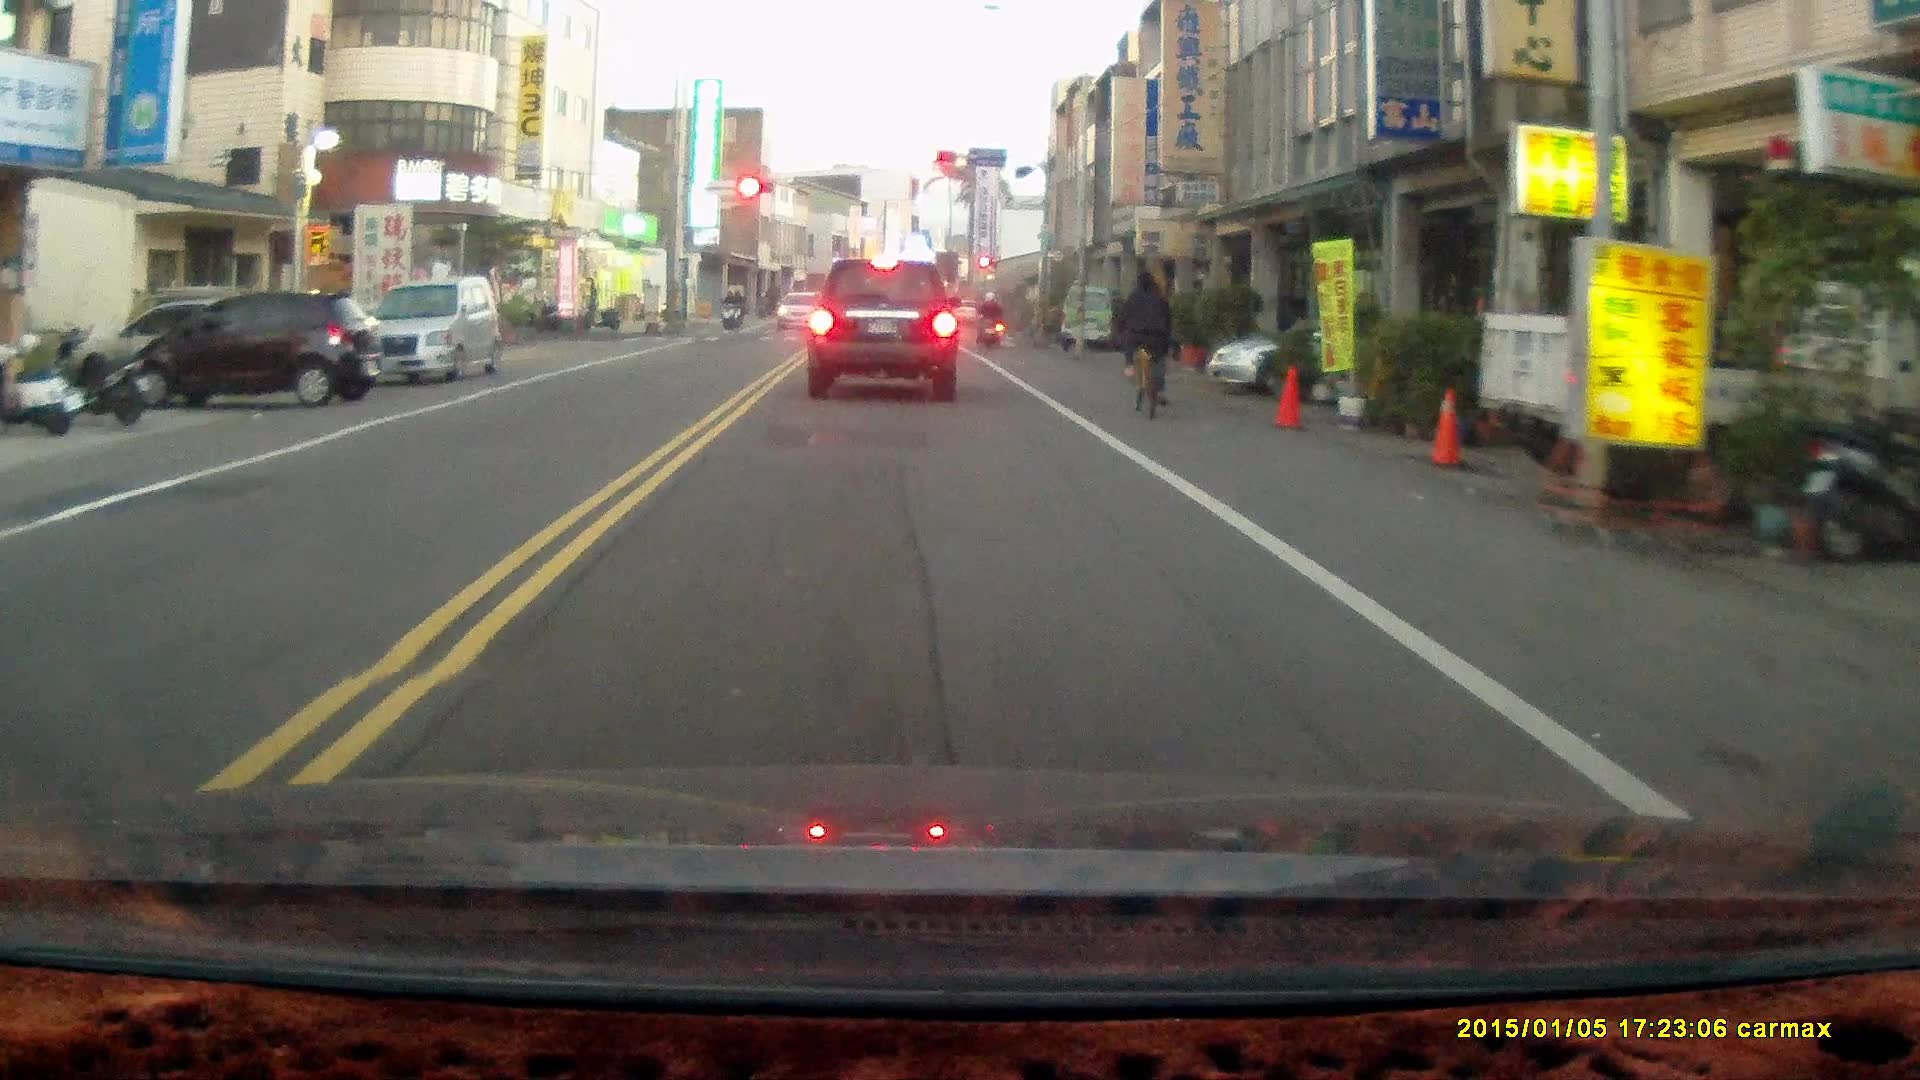rider: (1113, 269, 1173, 423), (972, 289, 1003, 351), (716, 286, 739, 331)
vehicle: (129, 284, 382, 408), (802, 256, 963, 403), (1205, 311, 1454, 397), (349, 276, 499, 385)
